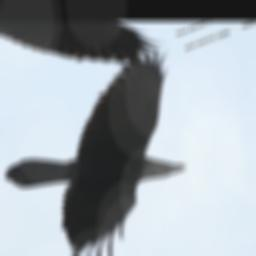Crow: (0, 48, 256, 256)
